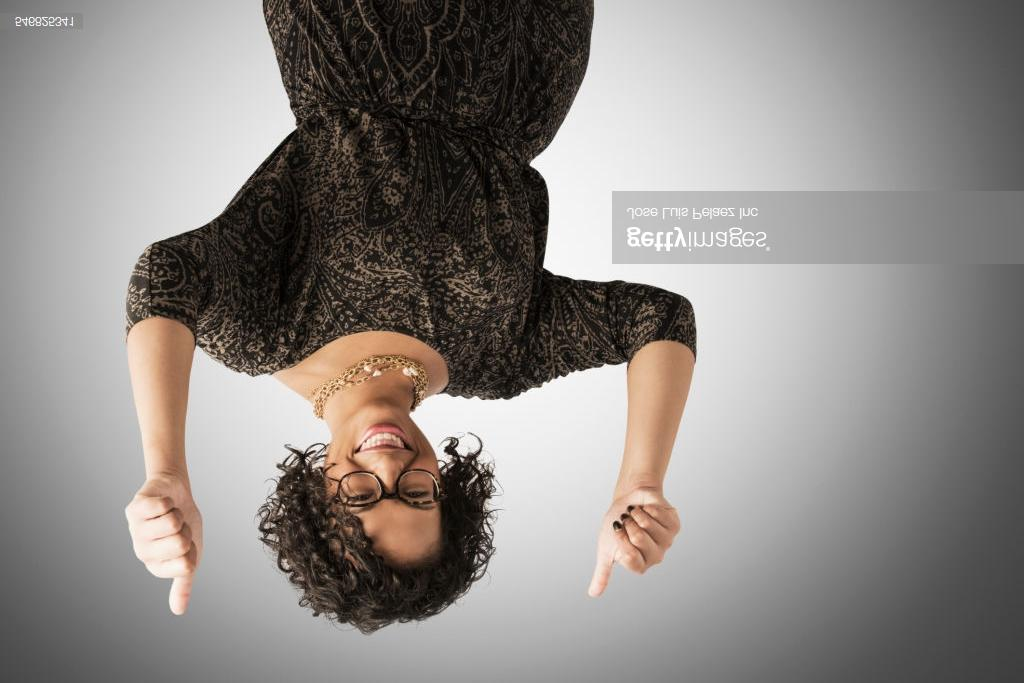thumbsdown: (123, 494, 197, 617), (588, 502, 681, 599)
